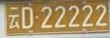D: (22, 7, 33, 29)
